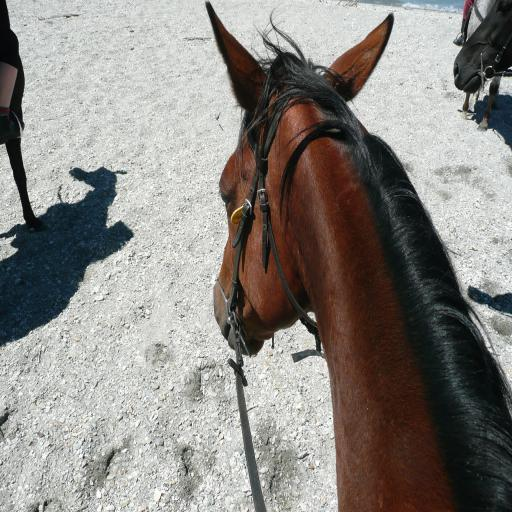horse: (204, 0, 512, 512), (461, 0, 503, 133), (452, 0, 511, 94)
